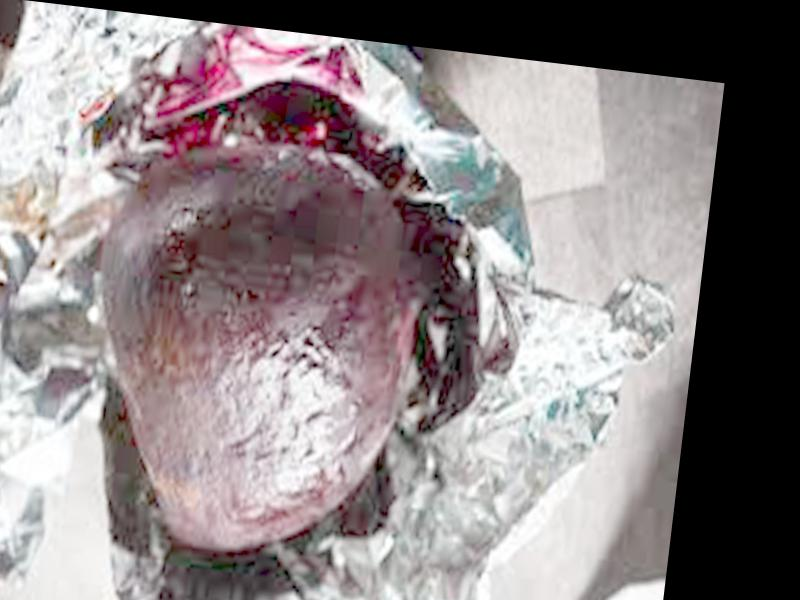Beet: (68, 141, 438, 572)
